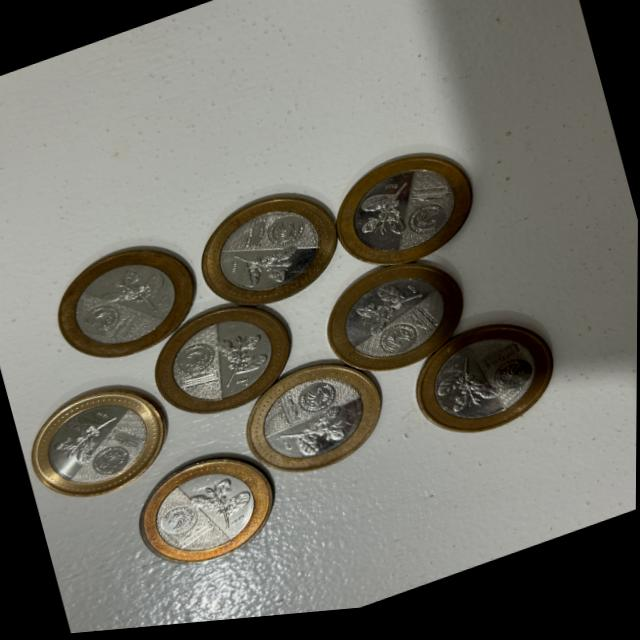20_New_Back: (266, 399, 363, 471), (342, 175, 421, 257)
